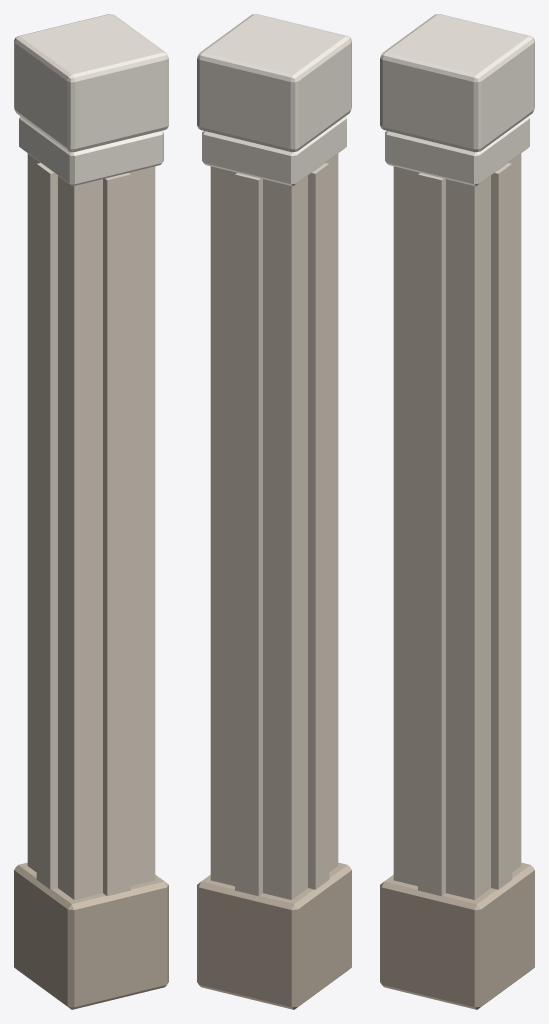
The model's file is pilar_igreja.glb.
3 views of the same model, side by side, from view 1: azimuth 30°, elevation 25°; view 2: azimuth 150°, elevation 25°; view 3: azimuth 330°, elevation 25° (orthographic).
Visible parts, largest first — view 1: pilar_igreja; view 2: pilar_igreja; view 3: pilar_igreja.
Part boxes in pixels (left/top/right/bottom): pilar_igreja: left=14, top=14, right=168, bottom=1009; pilar_igreja: left=197, top=14, right=351, bottom=1009; pilar_igreja: left=380, top=14, right=534, bottom=1009.
Bounding box in the file's own units: 0.3 × 2.65 × 0.3.
